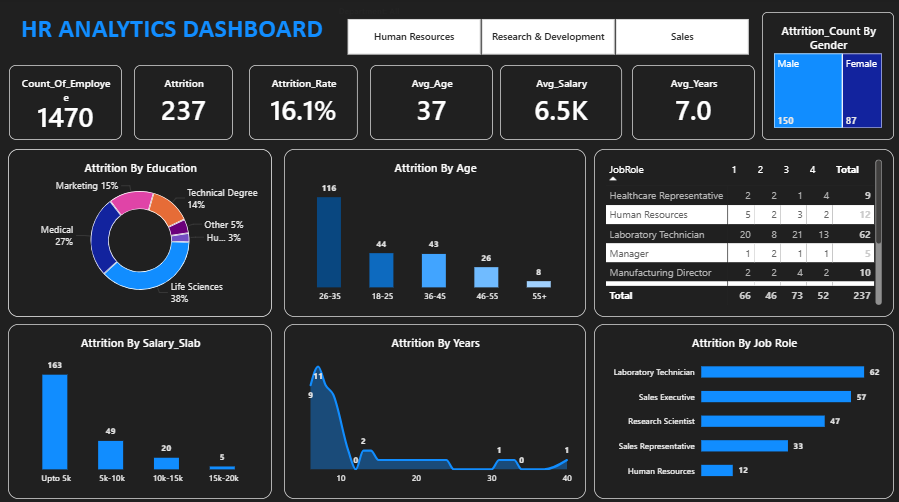

Layout of this report page (visuals, bound fields, positions):
{"tool":"powerbi","page":{"name":"Page 1","canvas":[1280,720],"ordinal":0},"visuals":[{"type":"card","title":"Count_Of_Employee","fields":{"Values":["CountNonNull(HR Analytics Data.EmployeeCount)"]},"box":[18.4,95,160.2,106.3],"z":0},{"type":"card","title":"Attrition","fields":{"Values":["Sum(HR Analytics Data.AttritionCount)"]},"box":[195.6,95,140.3,106.3],"z":1000},{"type":"card","title":"Attrition_Rate","fields":{"Values":["HR Analytics Data.AttritionRate"]},"box":[358.6,95,154.5,106.3],"z":2000},{"type":"card","title":"Avg_Salary","fields":{"Values":["Avg(HR Analytics Data.MonthlyIncome)"]},"box":[714.3,95,172.9,106.3],"z":3000},{"type":"card","title":"Avg_Age","fields":{"Values":["Avg(HR Analytics Data.Age)"]},"box":[530.1,95,174.3,106.3],"z":4000},{"type":"card","title":"Avg_Years","fields":{"Values":["Avg(HR Analytics Data.YearsAtCompany)"]},"box":[901.4,95,174.3,106.3],"z":5000},{"type":"donutChart","title":"Attrition By Education","fields":{"Category":["HR Analytics Data.EducationField"],"Y":["Sum(HR Analytics Data.AttritionCount)"]},"box":[17,214,374.2,238.1],"z":6000},{"type":"columnChart","title":"Attrition By Age","fields":{"Category":["HR Analytics Data.Age Group"],"Y":["Sum(HR Analytics Data.AttritionCount)"]},"box":[408.2,214,428,238.1],"z":7000},{"type":"columnChart","title":"Attrition By Salary_Slab","fields":{"Y":["Sum(HR Analytics Data.AttritionCount)"],"Category":["HR Analytics Data.Salary Slab"]},"box":[17,462,374.2,248],"z":8000},{"type":"clusteredBarChart","title":"Attrition By Job Role","fields":{"Y":["Sum(HR Analytics Data.AttritionCount)"],"Category":["HR Analytics Data.JobRole"]},"box":[847.6,462,425.2,248],"z":9000},{"type":"areaChart","title":"Attrition By Years","fields":{"Category":["HR Analytics Data.YearsAtCompany"],"Y":["Sum(HR Analytics Data.AttritionCount)"]},"box":[408.2,462,428,248],"z":10000},{"type":"treemap","title":"Attrition_Count By Gender","fields":{"Group":["HR Analytics Data.Gender"],"Values":["Sum(HR Analytics Data.AttritionCount)"]},"box":[1085.7,19.8,187.1,181.4],"z":11000},{"type":"slicer","fields":{"Values":["HR Analytics Data.Department"]},"box":[477.6,9.9,608,72.3],"z":12000},{"type":"textbox","box":[18.4,19.8,449.3,62.4],"z":15000},{"type":"pivotTable","fields":{"Rows":["HR Analytics Data.JobRole"],"Columns":["HR Analytics Data.JobSatisfaction"],"Values":["Sum(HR Analytics Data.AttritionCount)"]},"box":[847.6,214,425.2,238.1],"z":15001}]}

Visuals, with their boxes in screenshot pixels (x1, y1, x2, y2), scaled from the page's 1280x720 canvas onto the 899x502 screenshot:
"Count_Of_Employee" card: detection(13, 66, 125, 140)
"Attrition" card: detection(137, 66, 236, 140)
"Attrition_Rate" card: detection(252, 66, 360, 140)
"Avg_Salary" card: detection(502, 66, 623, 140)
"Avg_Age" card: detection(372, 66, 495, 140)
"Avg_Years" card: detection(633, 66, 756, 140)
"Attrition By Education" donutChart: detection(12, 149, 275, 315)
"Attrition By Age" columnChart: detection(287, 149, 587, 315)
"Attrition By Salary_Slab" columnChart: detection(12, 322, 275, 495)
"Attrition By Job Role" clusteredBarChart: detection(595, 322, 894, 495)
"Attrition By Years" areaChart: detection(287, 322, 587, 495)
"Attrition_Count By Gender" treemap: detection(763, 14, 894, 140)
slicer - HR Analytics Data.Department: detection(335, 7, 762, 57)
textbox: detection(13, 14, 328, 57)
pivotTable - HR Analytics Data.JobRole x HR Analytics Data.JobSatisfaction: detection(595, 149, 894, 315)
